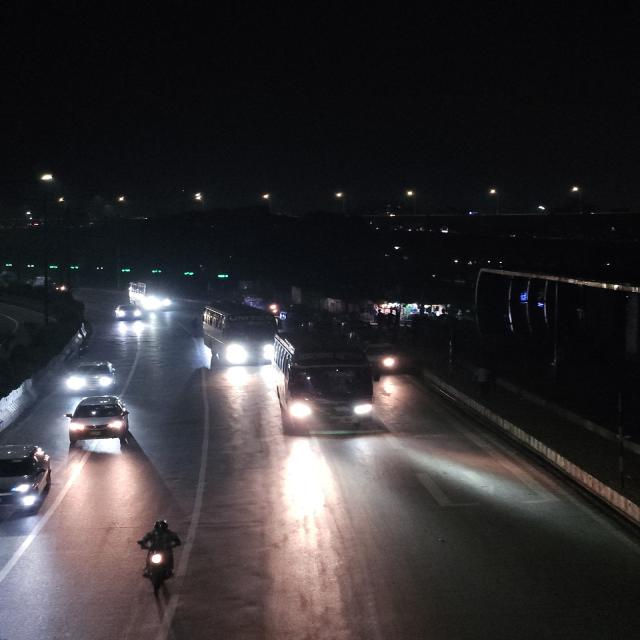bus: (271, 329, 378, 438), (198, 301, 278, 366), (129, 278, 172, 312)
car: (0, 442, 55, 523), (62, 394, 136, 448), (62, 358, 120, 396), (111, 301, 146, 324)
motorcycle: (134, 516, 187, 604)
